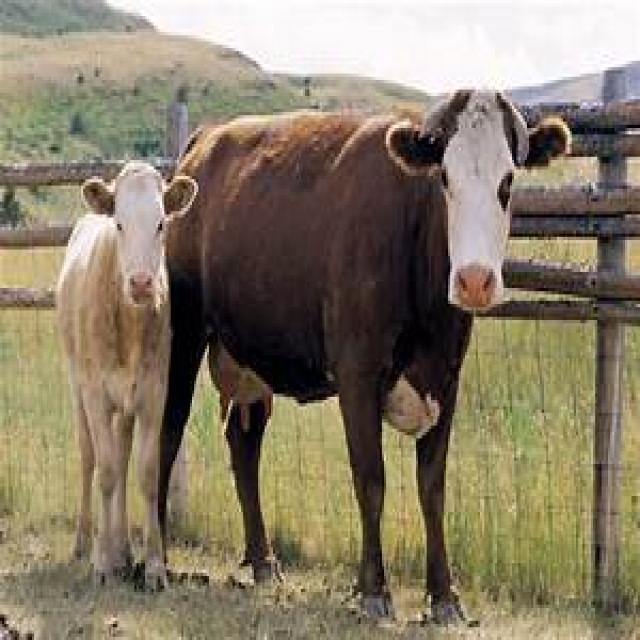cow: (161, 90, 531, 615), (56, 161, 198, 588), (218, 351, 270, 577)
